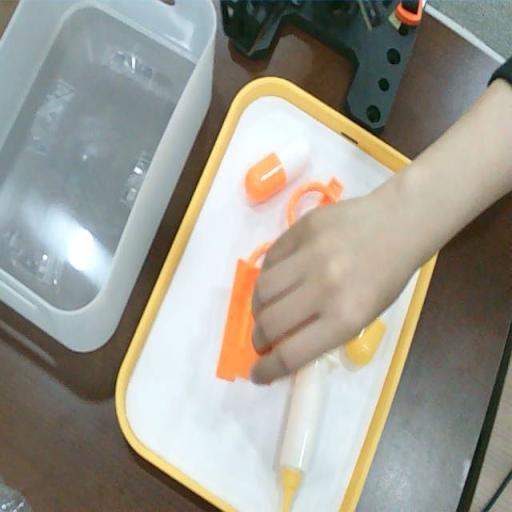hospital: (252, 190, 410, 380)
